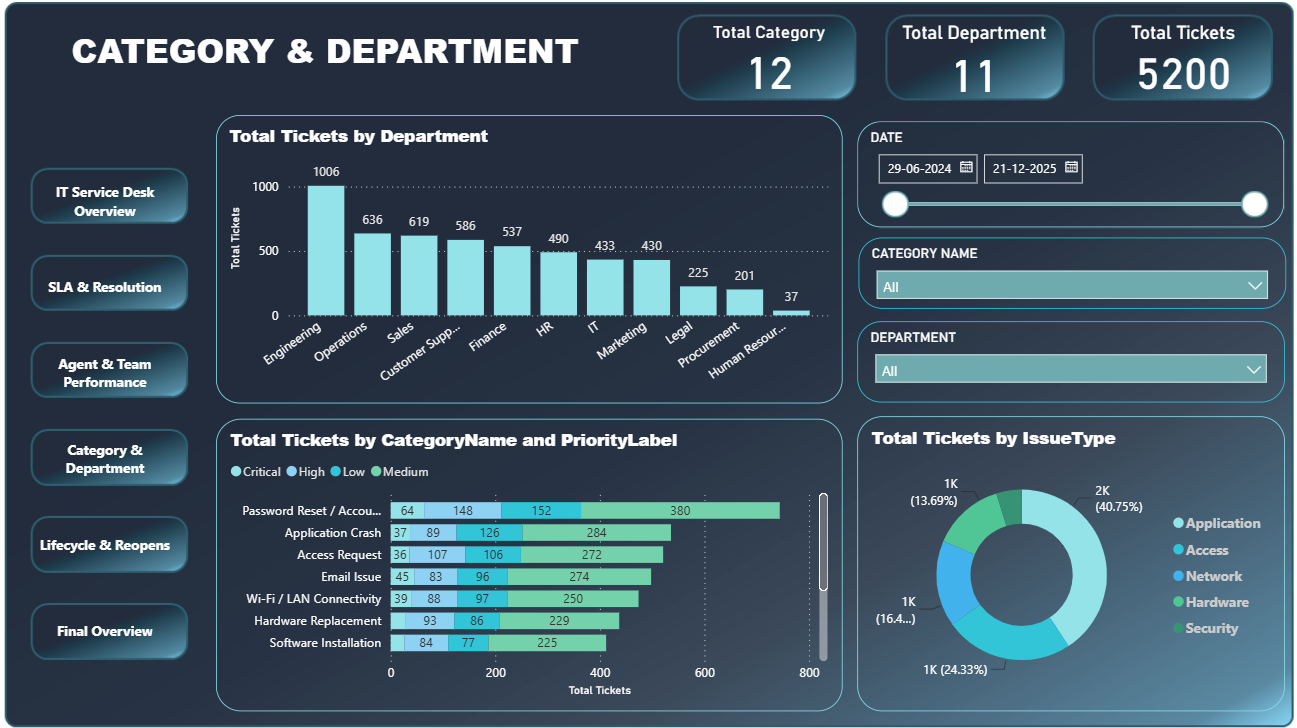

The page's visual inventory and layout, read from the dashboard file:
{"tool":"powerbi","page":{"name":"Category & Department","canvas":[1280,720],"ordinal":3},"visuals":[{"type":"barChart","fields":{"Y":["Tickets.Total Tickets"],"Category":["Categories.CategoryName"],"Series":["SLA_Definitions.PriorityLabel"]},"box":[227.4,414.3,604.8,282.1],"z":0},{"type":"columnChart","fields":{"Category":["Tickets.Department"],"Y":["Tickets.Total Tickets"]},"box":[227.4,120.2,604.8,278.6],"z":1000},{"type":"slicer","title":"DEPARTMENT","fields":{"Values":["Tickets.Department"]},"box":[845.2,320.2,413.1,78.6],"z":2000},{"type":"slicer","title":"CATEGORY NAME","fields":{"Values":["Categories.CategoryName"]},"box":[846.4,239.3,413.1,69],"z":3000},{"type":"textbox","box":[45.2,29.8,575,64.3],"z":4000},{"type":"donutChart","fields":{"Category":["Categories.IssueType"],"Y":["Measure Table.Total Tickets"]},"box":[845.2,411.9,413.1,284.5],"z":5000},{"type":"card","title":"Total Tickets","fields":{"Values":["Measure Table.Total Tickets"]},"box":[1081,29.8,158.3,71.4],"z":6000},{"type":"card","title":"Total Department","fields":{"Values":["Measure Table.Total Departments"]},"box":[879.8,29.8,158.3,76.2],"z":7000},{"type":"card","title":"Total Category","fields":{"Values":["Measure Table.Total Categories"]},"box":[677.4,29.8,167.9,71.4],"z":8000},{"type":"slicer","title":"DATE","fields":{"Values":["Date Table.Date"]},"box":[845.2,126.2,411.9,102.4],"z":9000},{"type":"pageNavigator","box":[47.6,166.7,145.2,489.3],"z":10000}]}

Visuals, with their boxes in screenshot pixels (x1, y1, x2, y2), scaled from the page's 1280x720 canvas onto the 1297x728 screenshot:
barChart - Tickets.Total Tickets x Categories.CategoryName: <bbox>230, 419, 843, 704</bbox>
columnChart - Tickets.Department x Tickets.Total Tickets: <bbox>230, 122, 843, 403</bbox>
"DEPARTMENT" slicer: <bbox>856, 324, 1275, 403</bbox>
"CATEGORY NAME" slicer: <bbox>858, 242, 1276, 312</bbox>
textbox: <bbox>46, 30, 628, 95</bbox>
donutChart - Categories.IssueType x Measure Table.Total Tickets: <bbox>856, 416, 1275, 704</bbox>
"Total Tickets" card: <bbox>1095, 30, 1256, 102</bbox>
"Total Department" card: <bbox>891, 30, 1052, 107</bbox>
"Total Category" card: <bbox>686, 30, 857, 102</bbox>
"DATE" slicer: <bbox>856, 128, 1274, 231</bbox>
pageNavigator: <bbox>48, 169, 195, 663</bbox>
